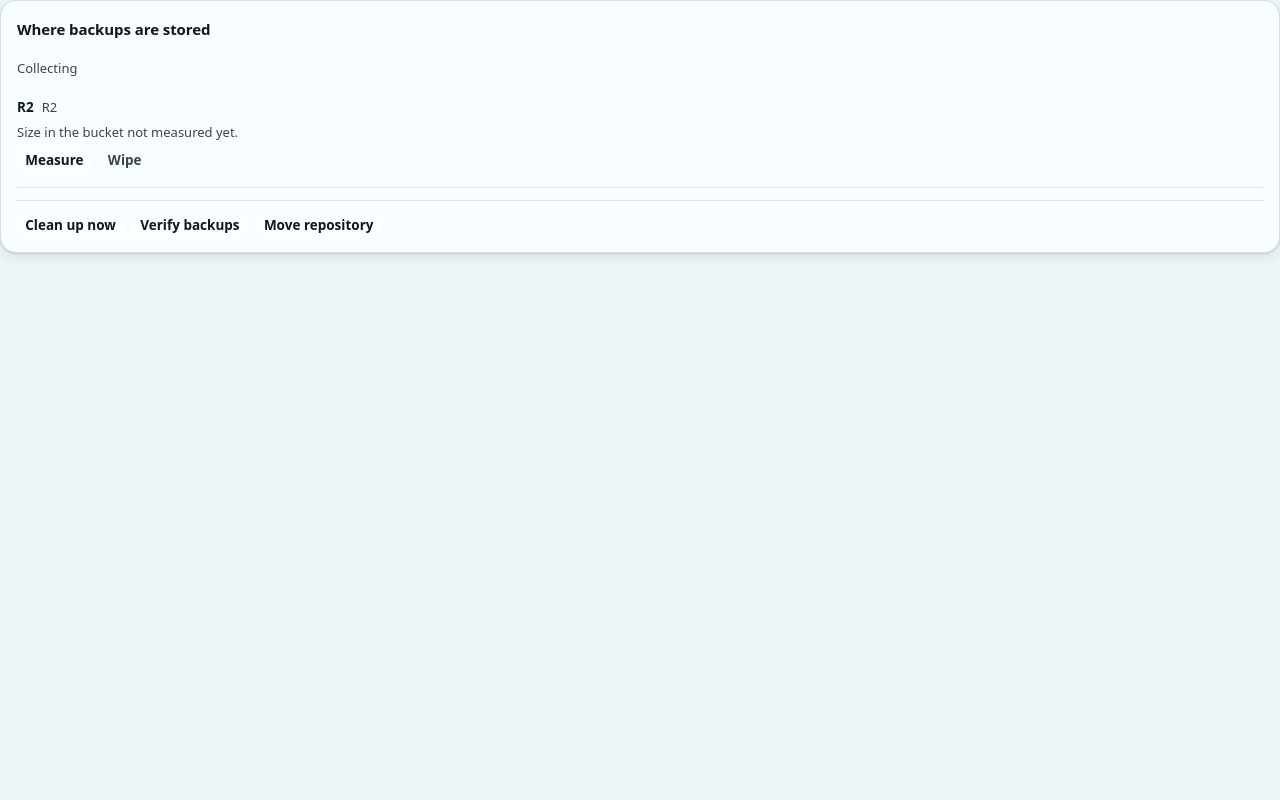
Test: BackupStoragePanel › wipes a cloud target after a simple confirmation
Click the button with aria-label "wipe r2": [125, 161] box [100,147,150,175]
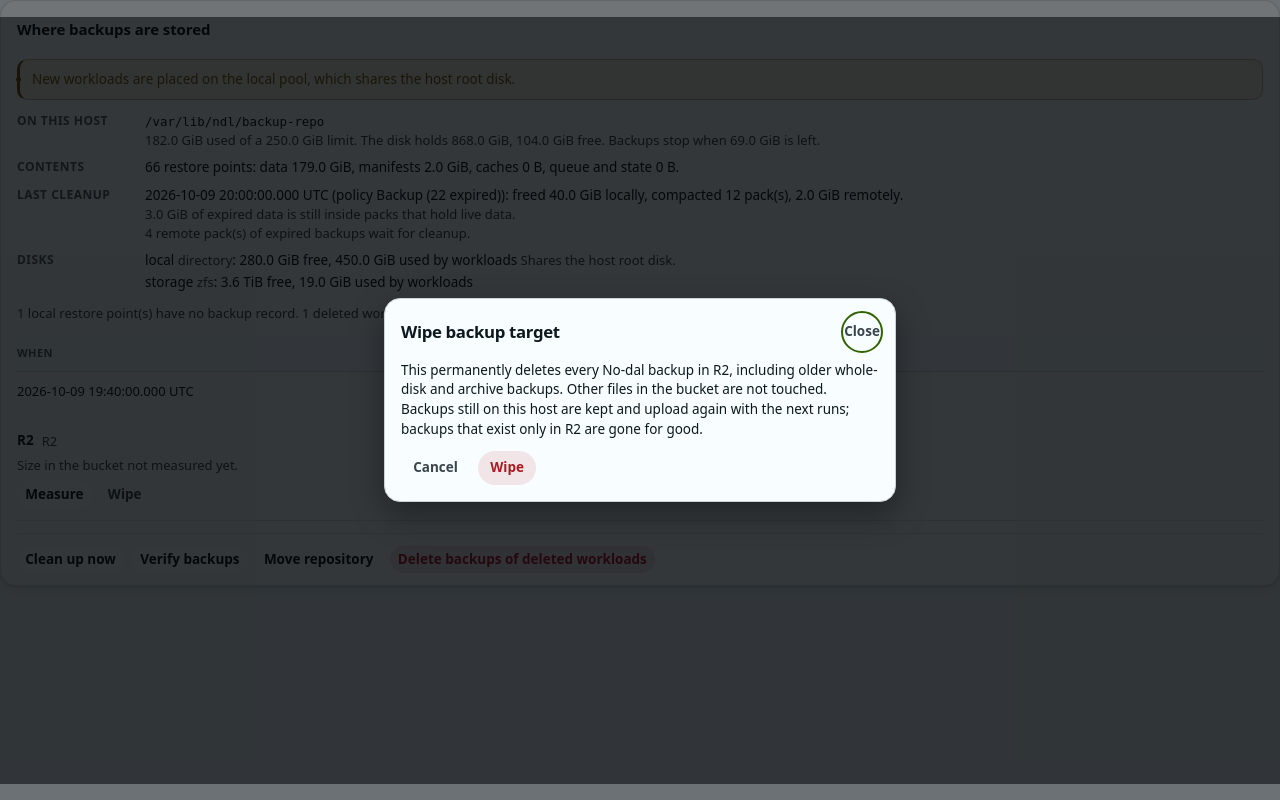
Click the button "Wipe": [507, 468] box [478,451,536,485]
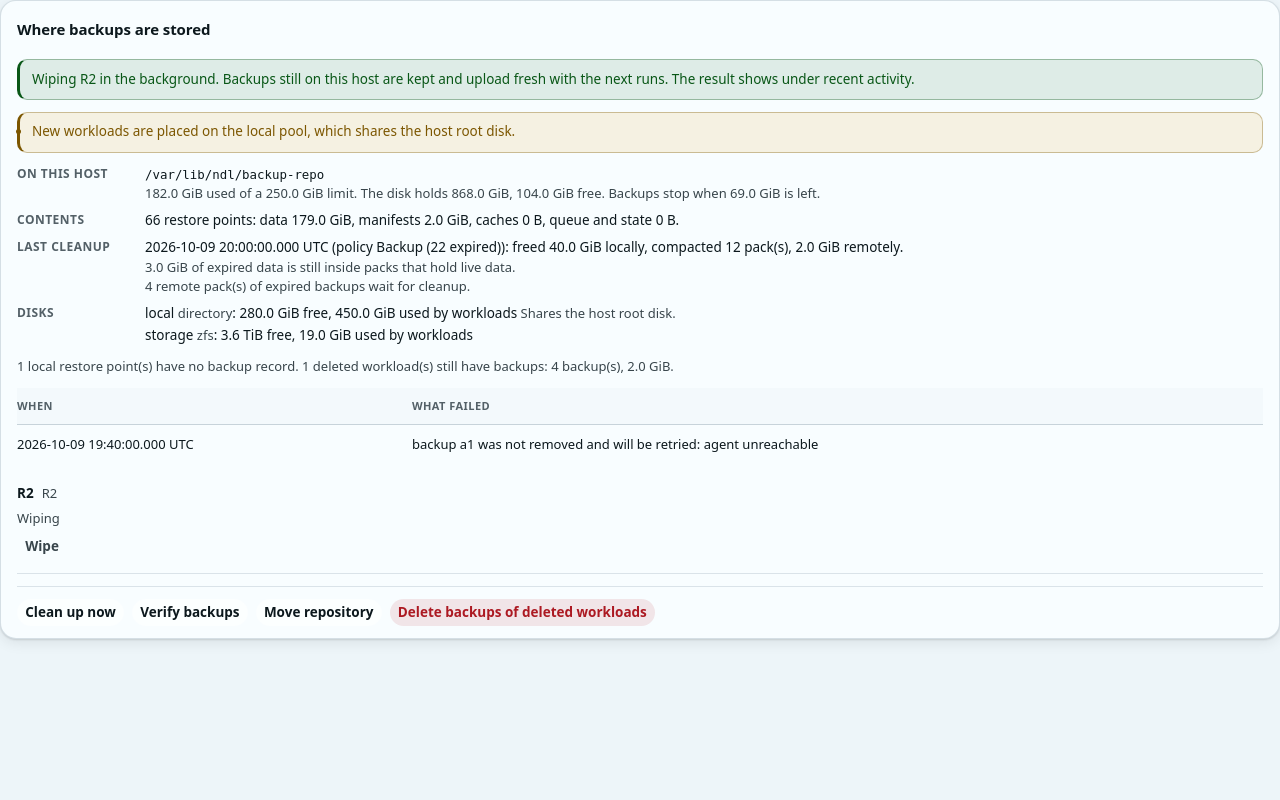
Expected: the text "Wiping R2 in the background" is shown, [32,70,915,88]
